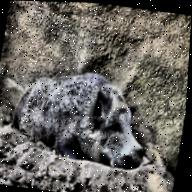boar: (0, 29, 160, 170)
